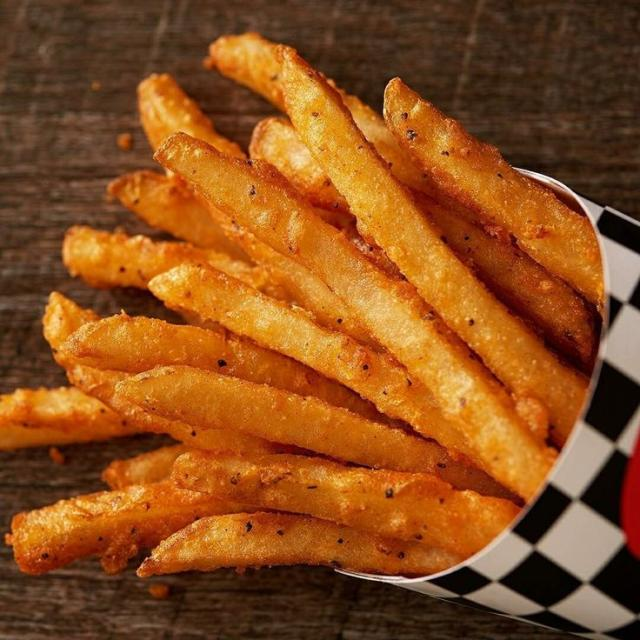potato fries: (0, 34, 602, 576), (156, 134, 553, 498), (280, 47, 586, 435), (149, 265, 473, 455), (385, 79, 602, 306), (43, 293, 294, 453), (172, 452, 519, 557), (117, 367, 454, 473), (60, 313, 385, 420), (414, 192, 596, 367), (11, 482, 246, 574), (138, 513, 460, 577), (108, 171, 248, 260), (63, 227, 266, 288), (138, 74, 245, 158), (250, 118, 347, 210), (0, 387, 135, 450), (102, 445, 190, 489)
